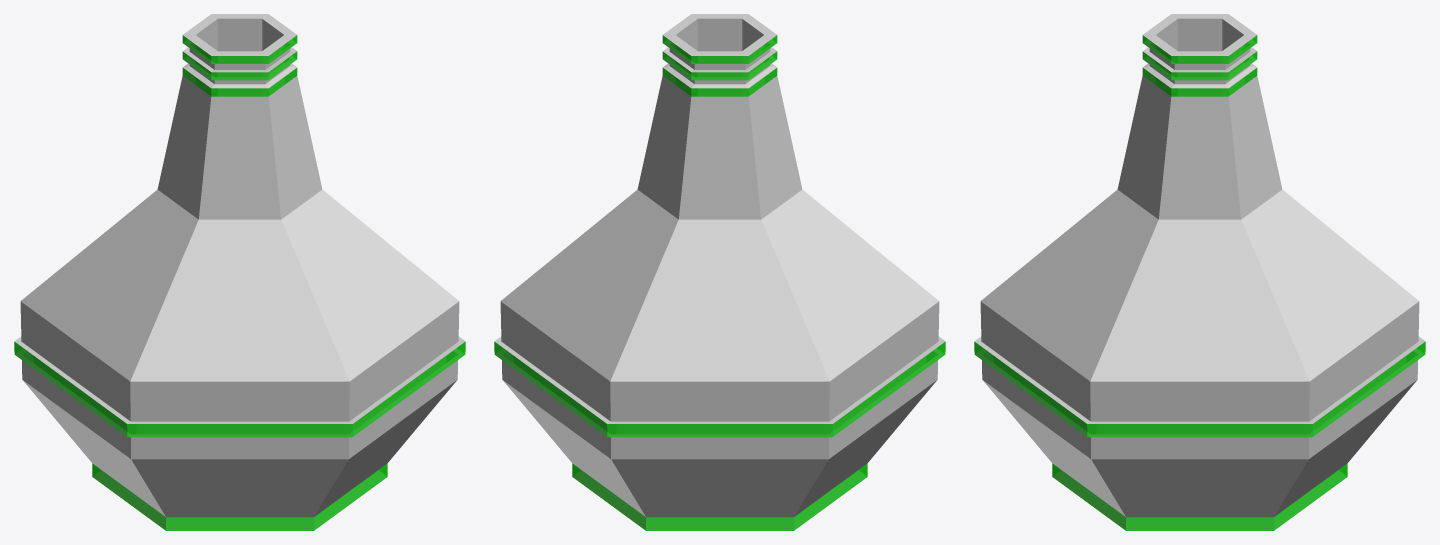
Rendered from 10per.fbx.
3 renders of one model, left to right at view 1: azimuth 30°, elevation 25°; view 2: azimuth 150°, elevation 25°; view 3: azimuth 270°, elevation 25°, orthographic.
Parts seen in each view (by area): view 1: Red Potion; view 2: Red Potion; view 3: Red Potion.
Boxes of the visible parts, left/top/right/bottom form: Red Potion: left=14, top=14, right=465, bottom=530; Red Potion: left=494, top=14, right=945, bottom=530; Red Potion: left=974, top=14, right=1425, bottom=530.
Size of the model in its own units: 9.44 by 11.78 by 10.9.
